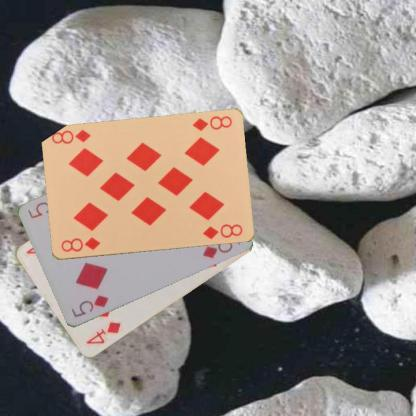4d: (83, 320, 123, 346)
5d: (68, 292, 110, 319)
8d: (189, 113, 233, 133), (58, 235, 101, 254)
